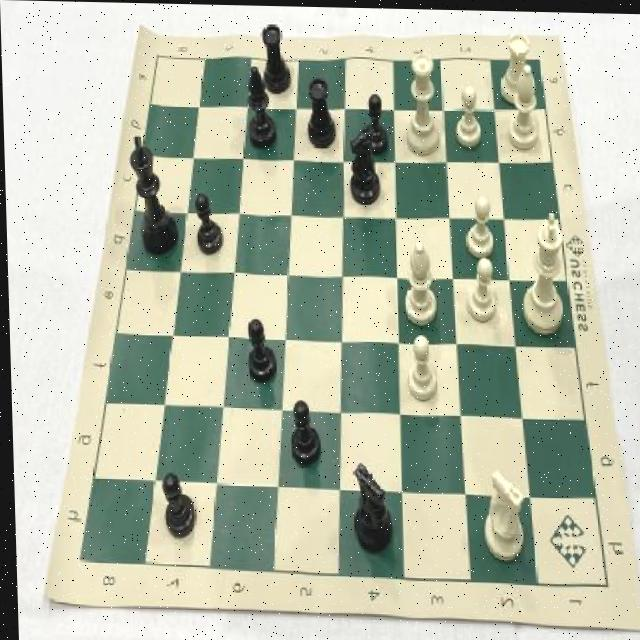bishop: (241, 63, 276, 152)
black-bishop: (122, 128, 180, 265)
black-king: (345, 455, 396, 558), (340, 120, 383, 210)
black-knight: (153, 464, 197, 541), (283, 393, 322, 468), (241, 314, 277, 387), (191, 190, 225, 259), (359, 88, 391, 157)
black-queen: (301, 67, 340, 152), (258, 17, 294, 100)
black-rook: (395, 233, 440, 330), (504, 58, 545, 153)
white-bishop: (511, 196, 571, 340)
white-king: (475, 457, 531, 567)
white-knight: (399, 330, 440, 408), (463, 250, 501, 328), (461, 189, 498, 260), (452, 76, 483, 154)
white-pawn: (398, 42, 444, 160)
white-queen: (491, 24, 538, 106), (491, 24, 538, 106)
